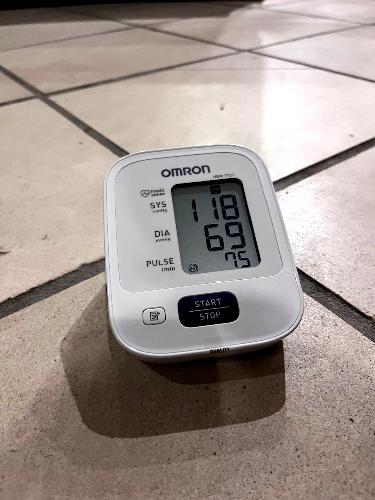bpm: (169, 173, 263, 277)
